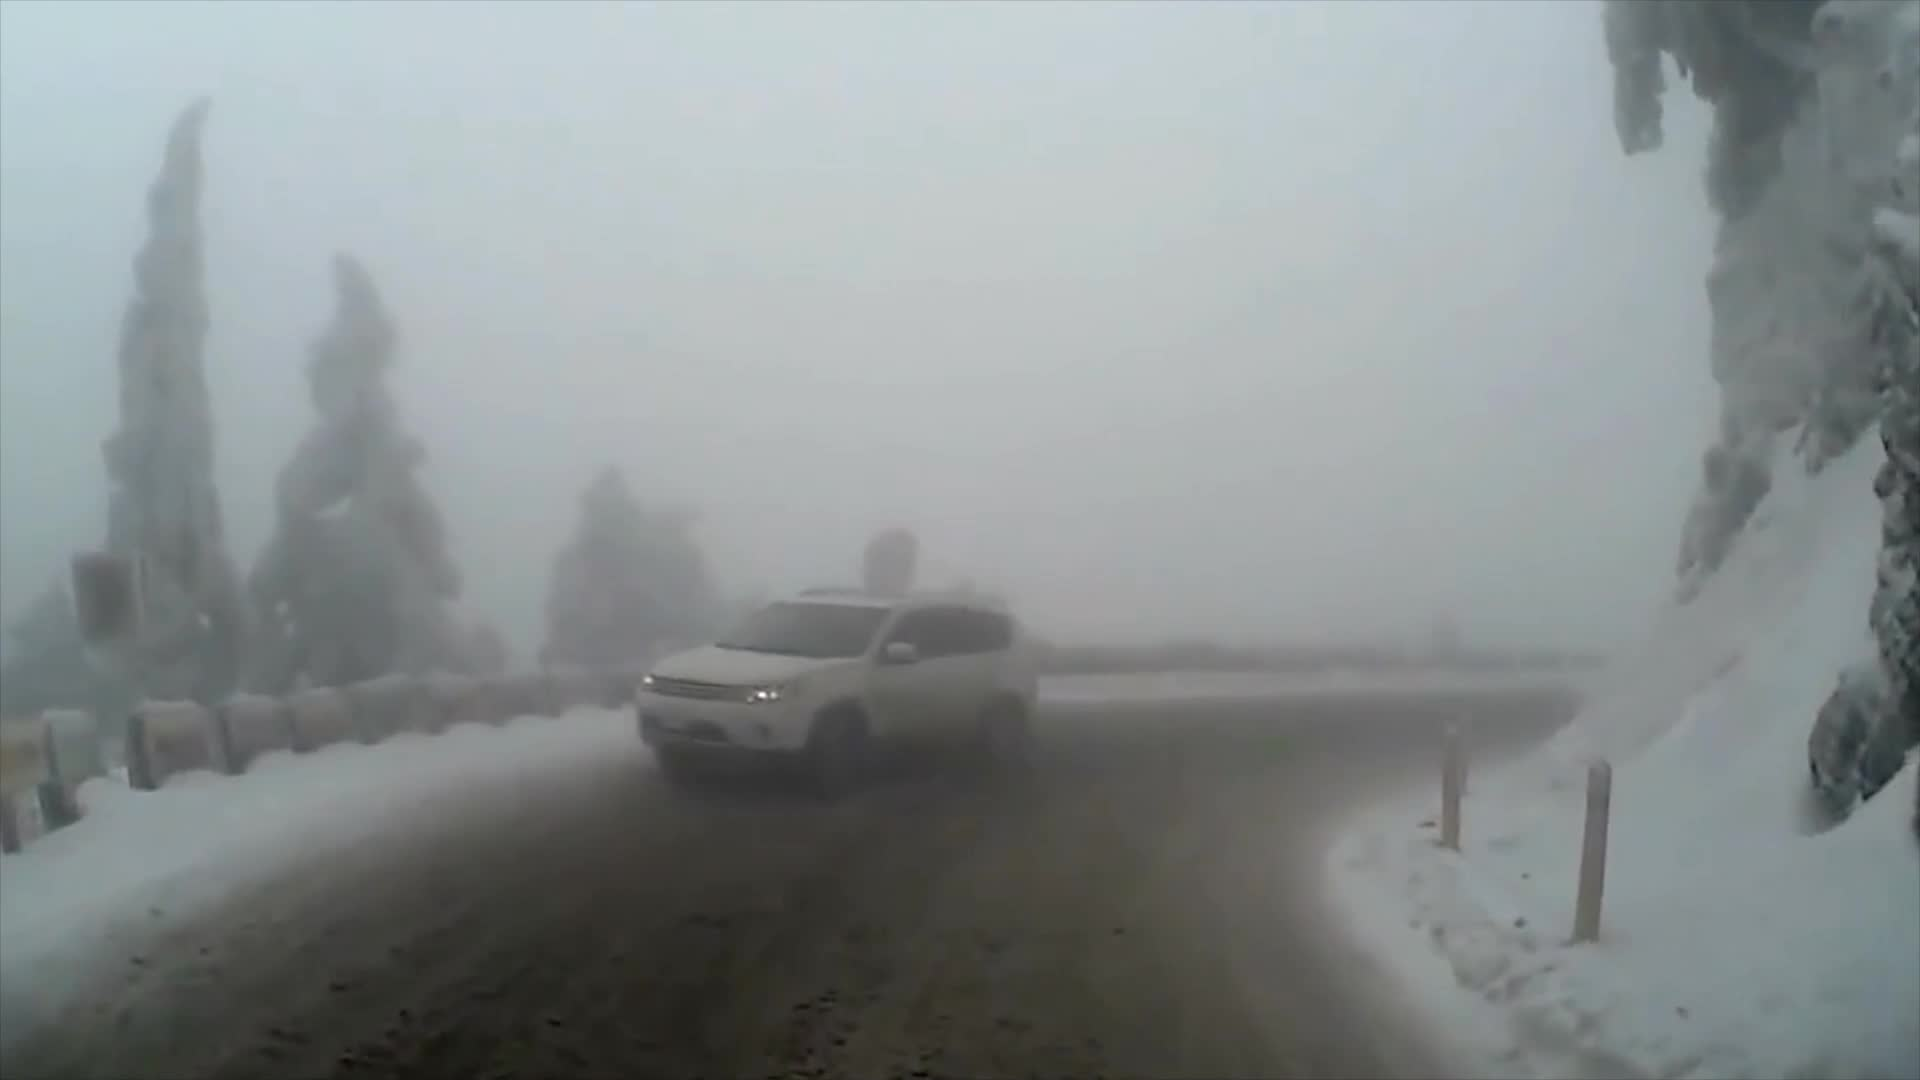vehicle: (632, 589, 1036, 812)
